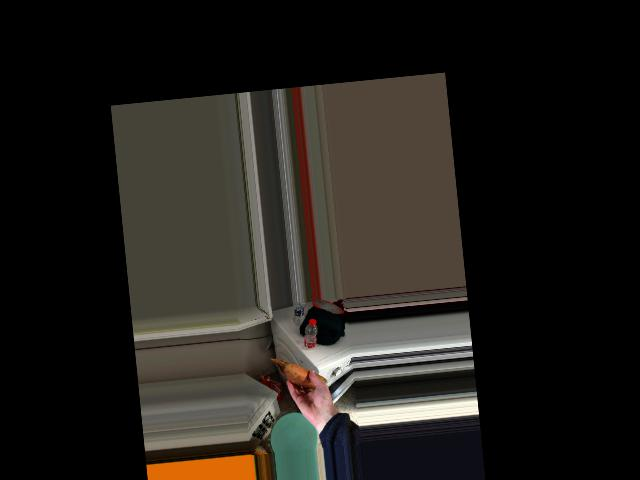sweet_potato: (286, 362, 322, 393)
